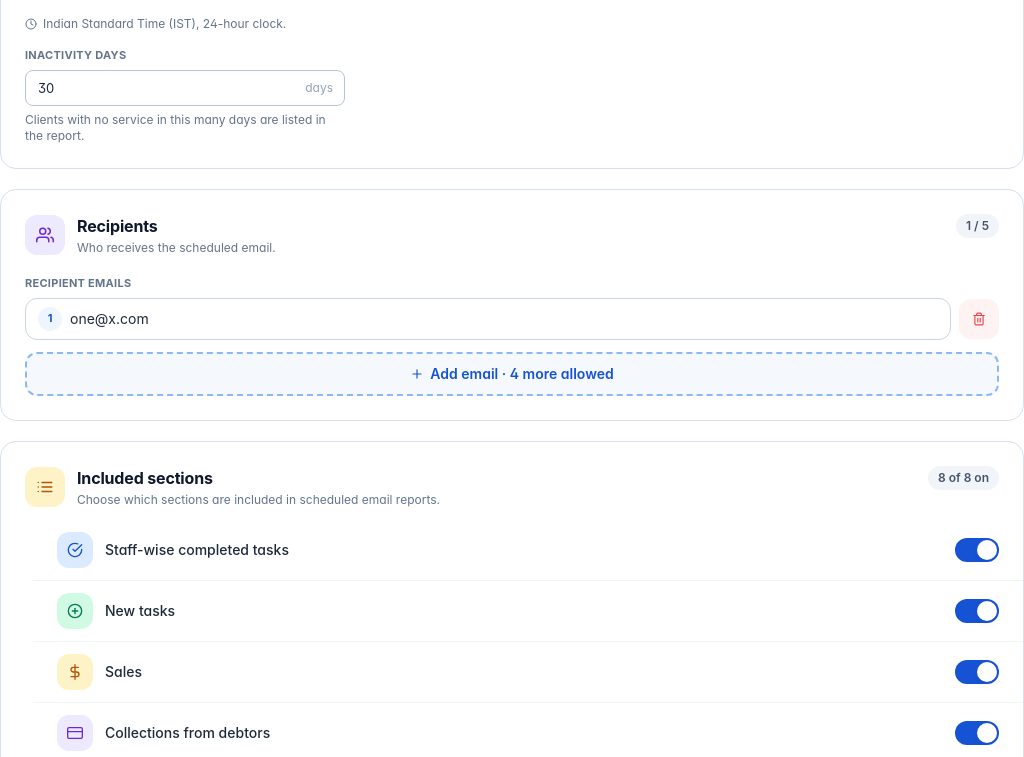
Test: Executive Summary – recipient emails › flags invalid and duplicate emails on their row
The image size is (1024, 757).
(page scrolled)
Click the button with aria-label "Add recipient email" at x=512, y=374, box [25,352,999,396]
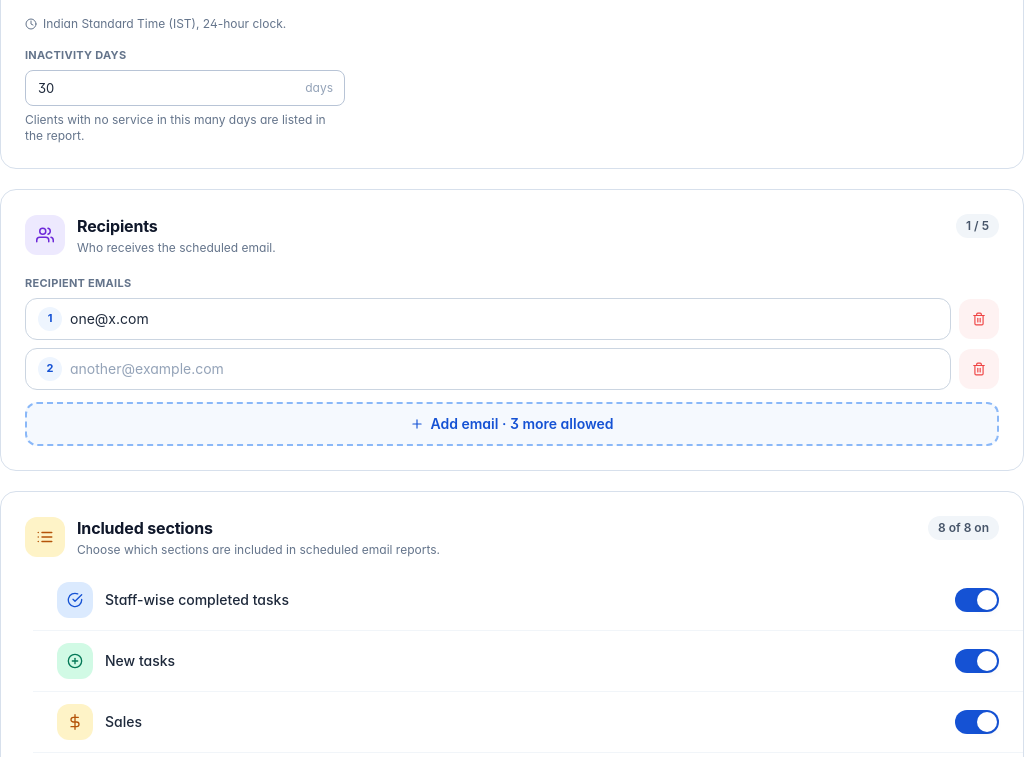
Type "ONE@x.com" into the field named "Recipient email 2" at x=504, y=369, box [70,349,938,389]
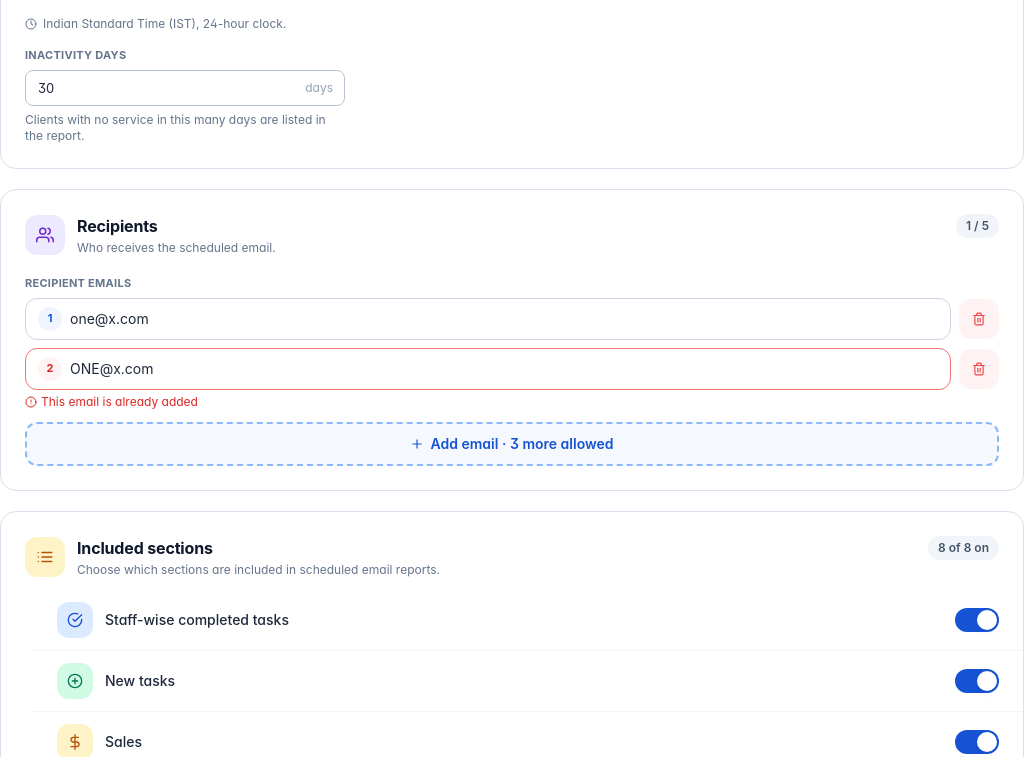
Now the text "This email is already added" is shown, box [25,394,198,409]
Replace the text in the field named "Recipient email 2" with "nope" at x=504, y=369, box [70,349,938,389]
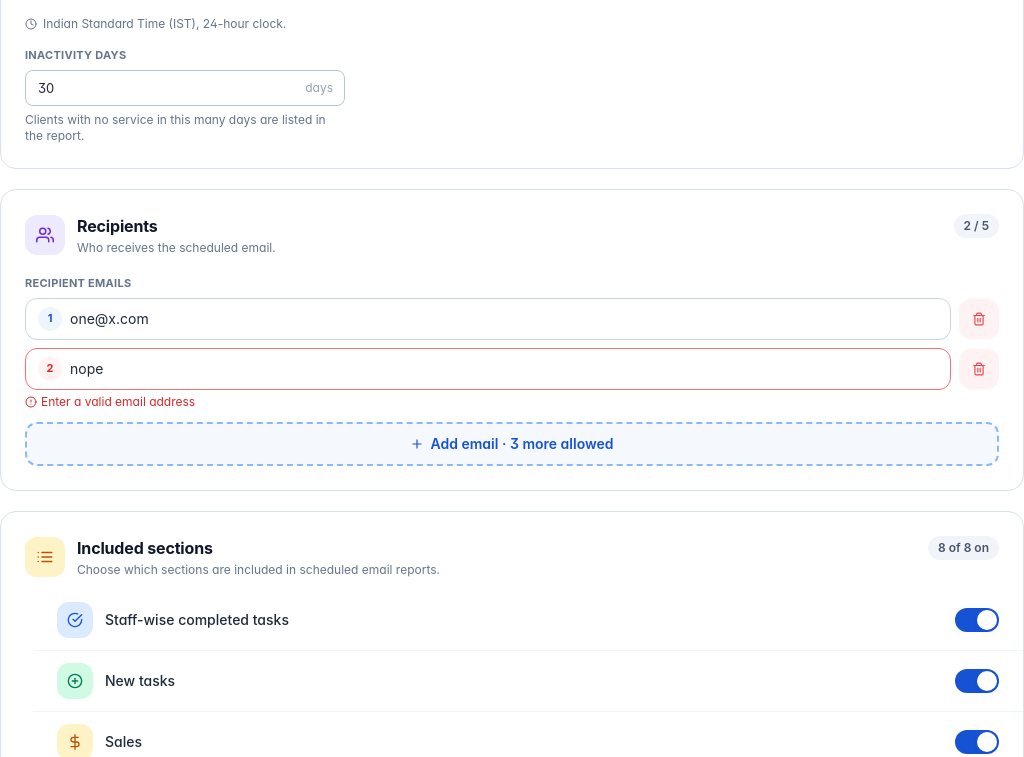
Now the text "Enter a valid email address" is shown, box [25,394,195,409]
